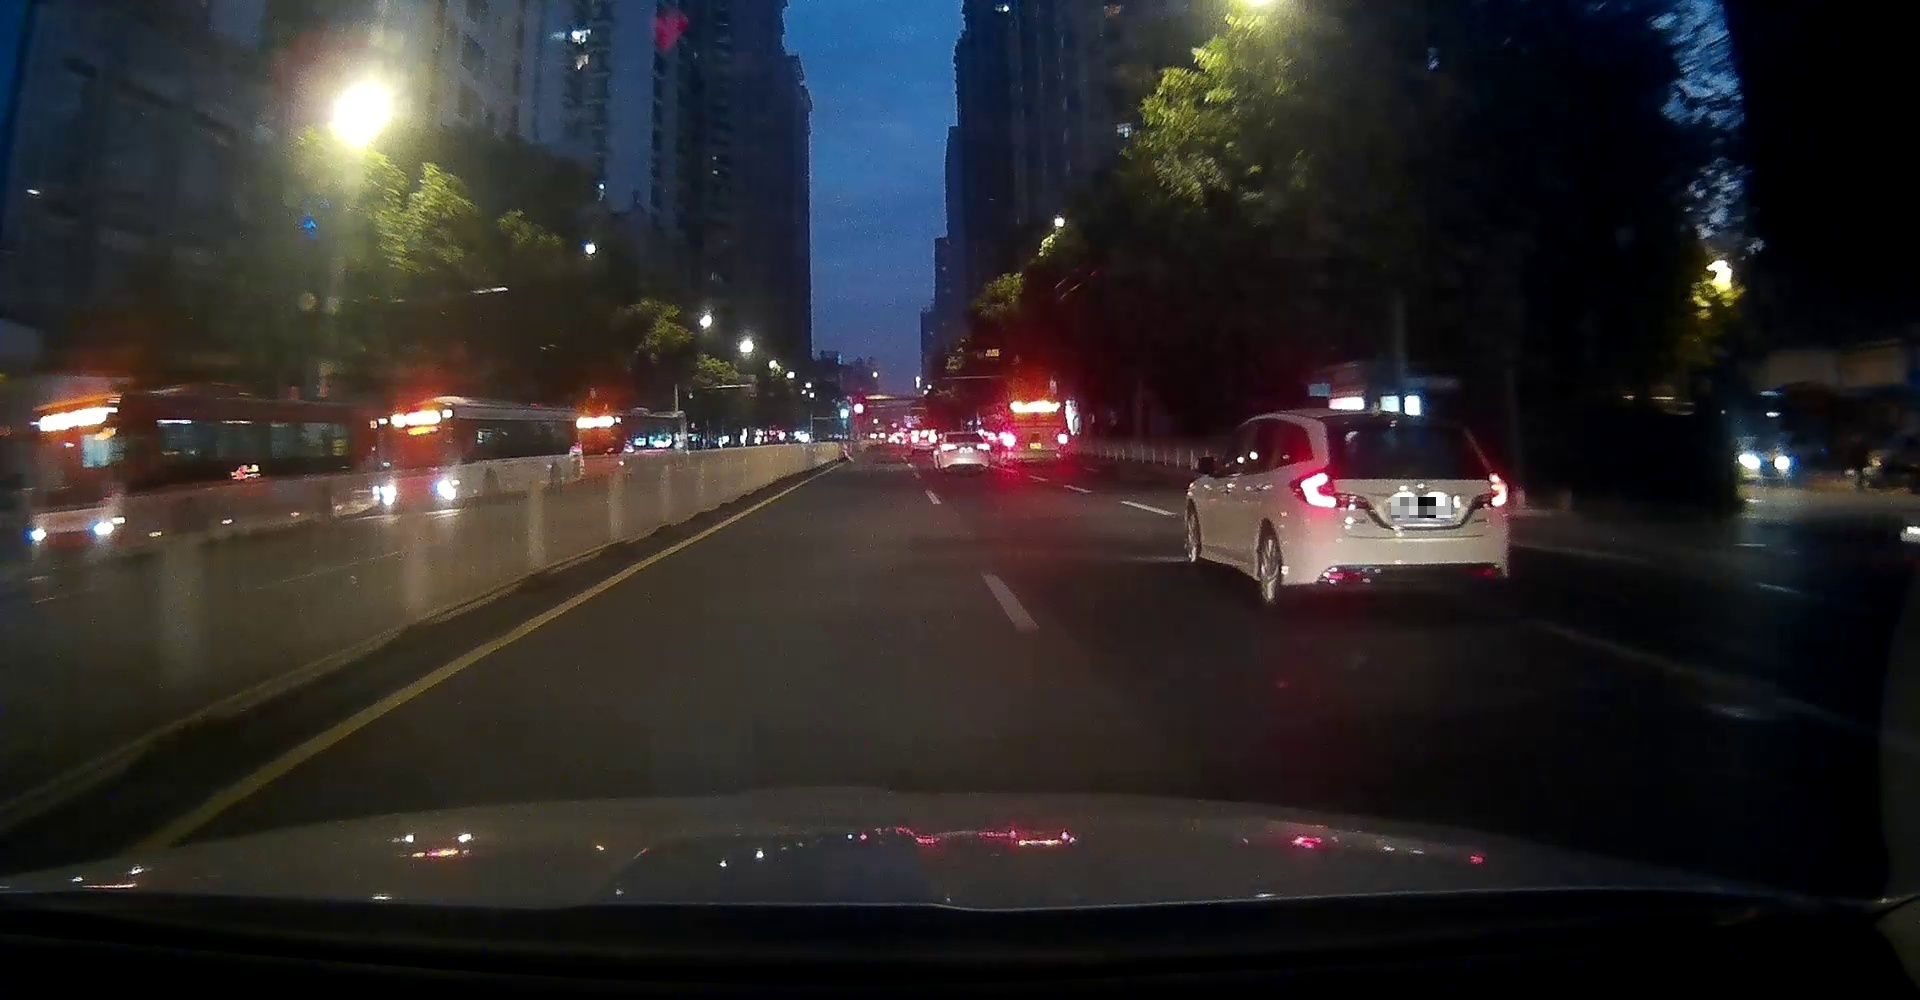L_light: (1289, 468, 1369, 509), (1004, 431, 1016, 449), (942, 443, 957, 452)
R_light: (1472, 473, 1509, 508), (1058, 431, 1065, 447), (977, 443, 990, 451)
T_light: (1388, 418, 1418, 428), (1031, 398, 1039, 401), (961, 434, 968, 437)
night-no: (1284, 409, 1509, 612), (1004, 392, 1067, 468), (940, 431, 990, 473)
plate_1: (1390, 497, 1451, 518)
